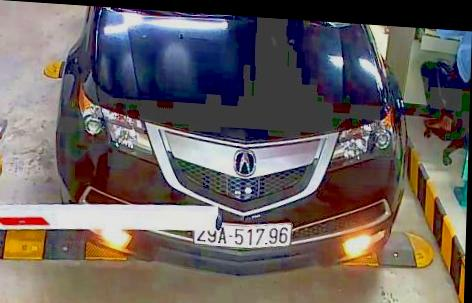License_Plate: (193, 215, 293, 253)
